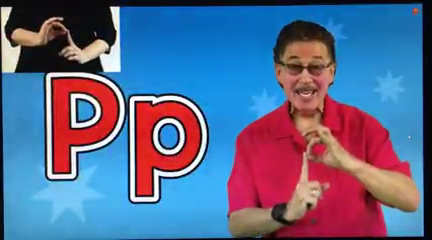P: (270, 118, 347, 226)
